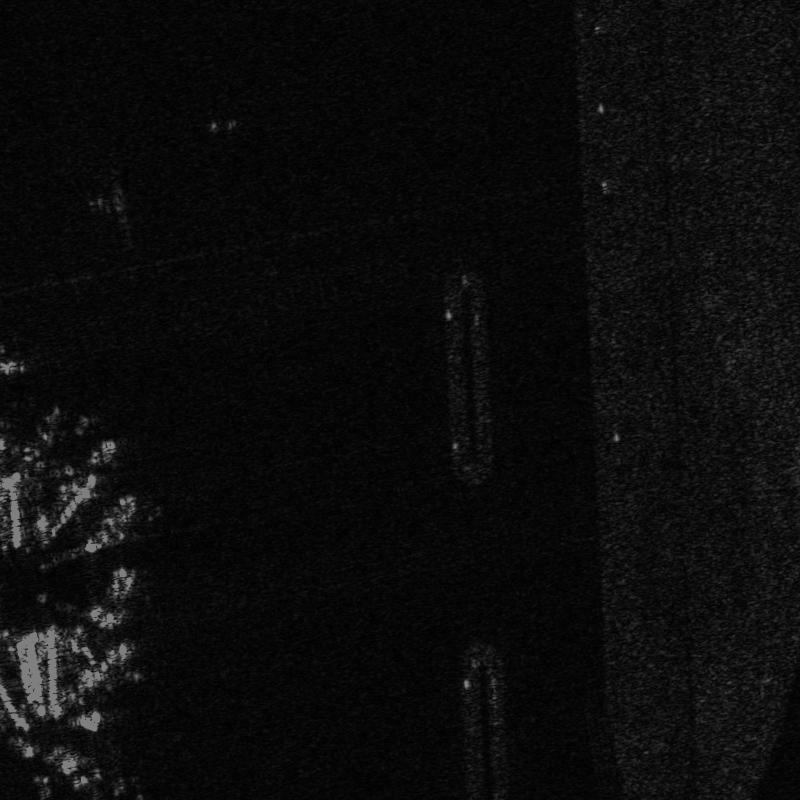Boeing737: (32, 741, 159, 799)
